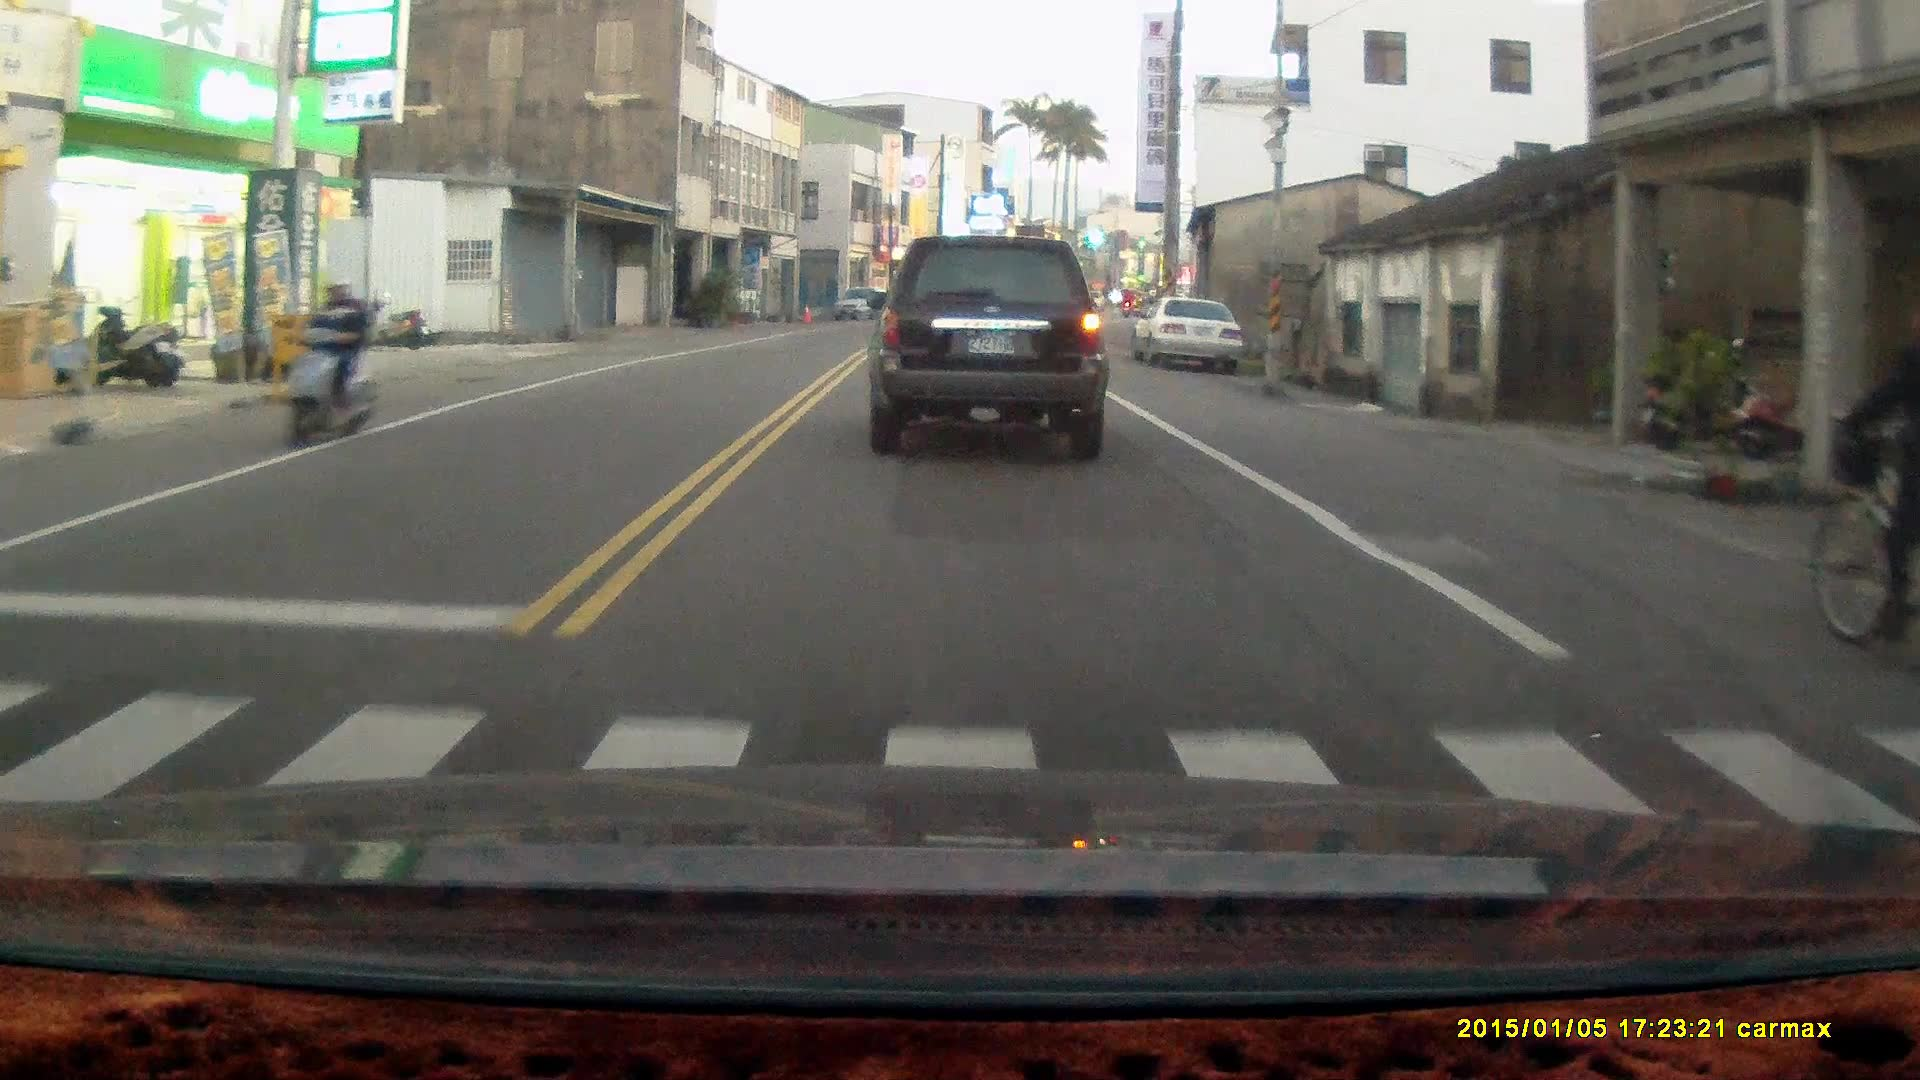rider: (1812, 319, 1920, 657), (276, 271, 375, 452)
vehicle: (868, 231, 1112, 458), (1134, 298, 1245, 372)
